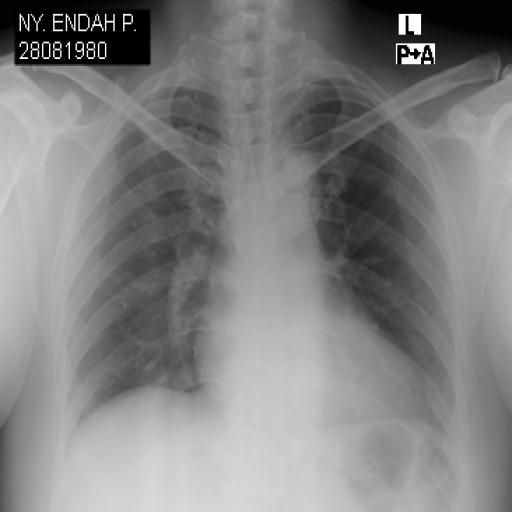kardiomegali: (49, 39, 470, 476)
